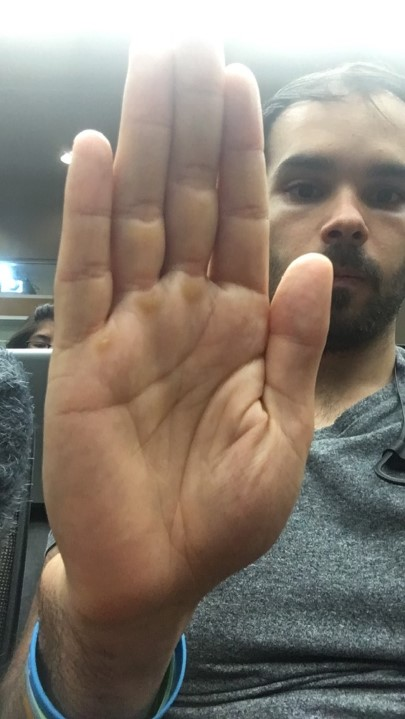hand: (45, 15, 335, 622)
